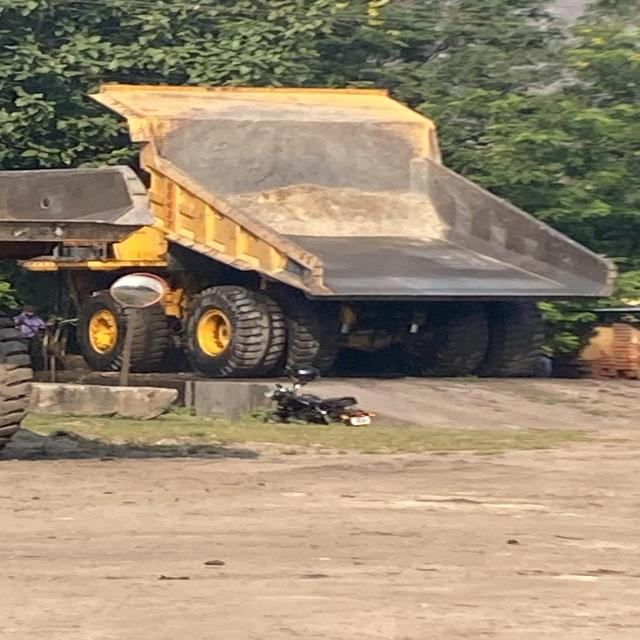dump_truck: (84, 74, 619, 371), (0, 154, 138, 454)
